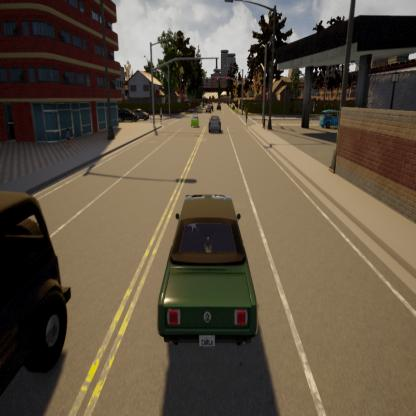Cars: (0, 189, 73, 416), (156, 192, 258, 350), (319, 108, 339, 134), (131, 103, 148, 120), (118, 108, 137, 123), (208, 115, 223, 133), (190, 116, 200, 130)
Pedestrian: (64, 122, 71, 144), (159, 107, 164, 124), (261, 113, 266, 130), (245, 106, 248, 124)
